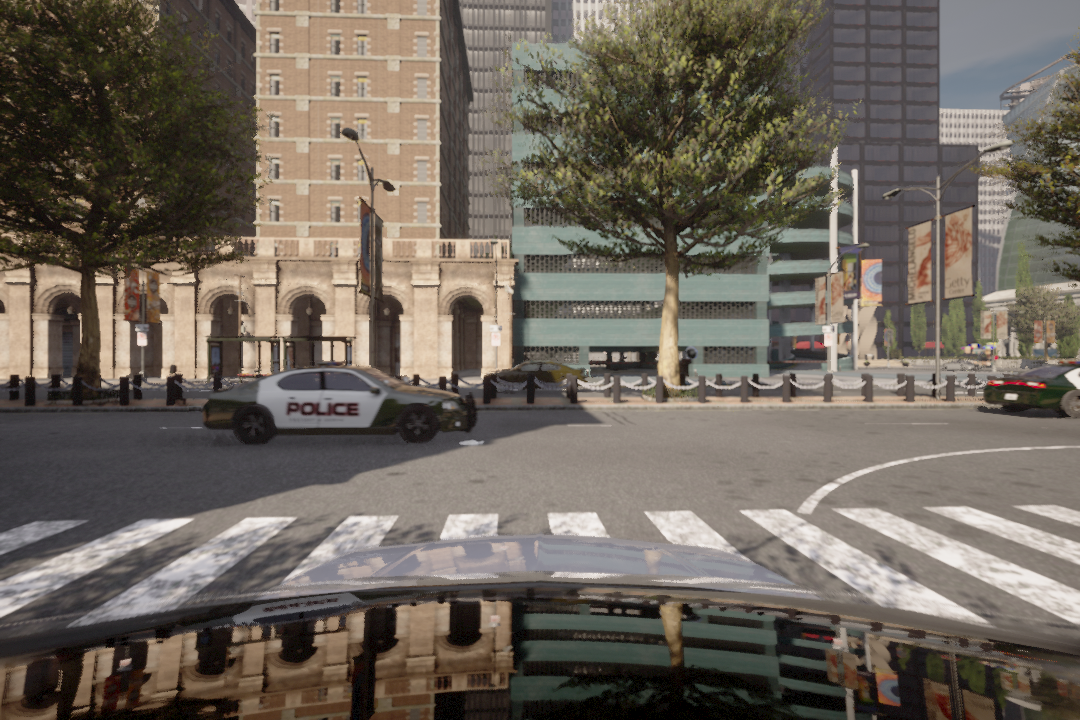walkside: (2, 510, 1080, 632)
